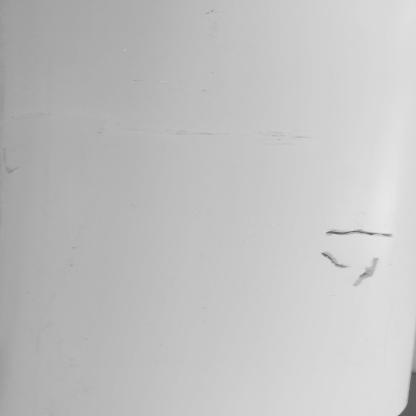fengxi: (324, 228, 392, 238), (356, 258, 378, 286), (321, 251, 347, 268)
